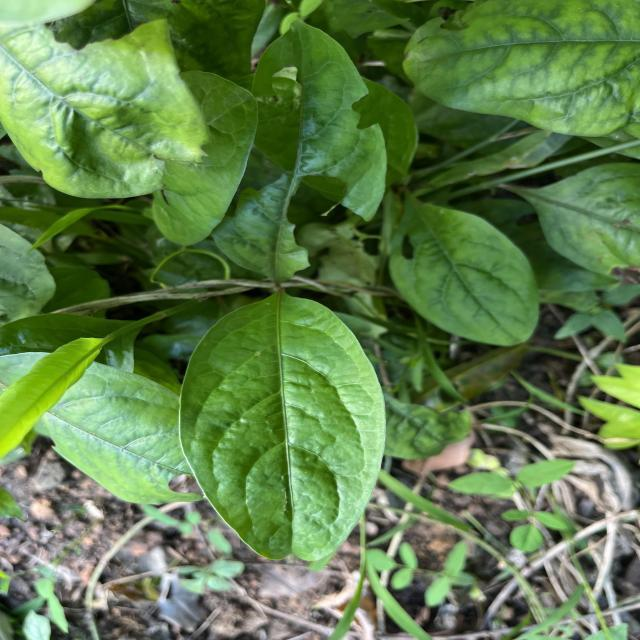Plumbago indica: (172, 288, 390, 566), (396, 0, 640, 138), (384, 196, 544, 350)
